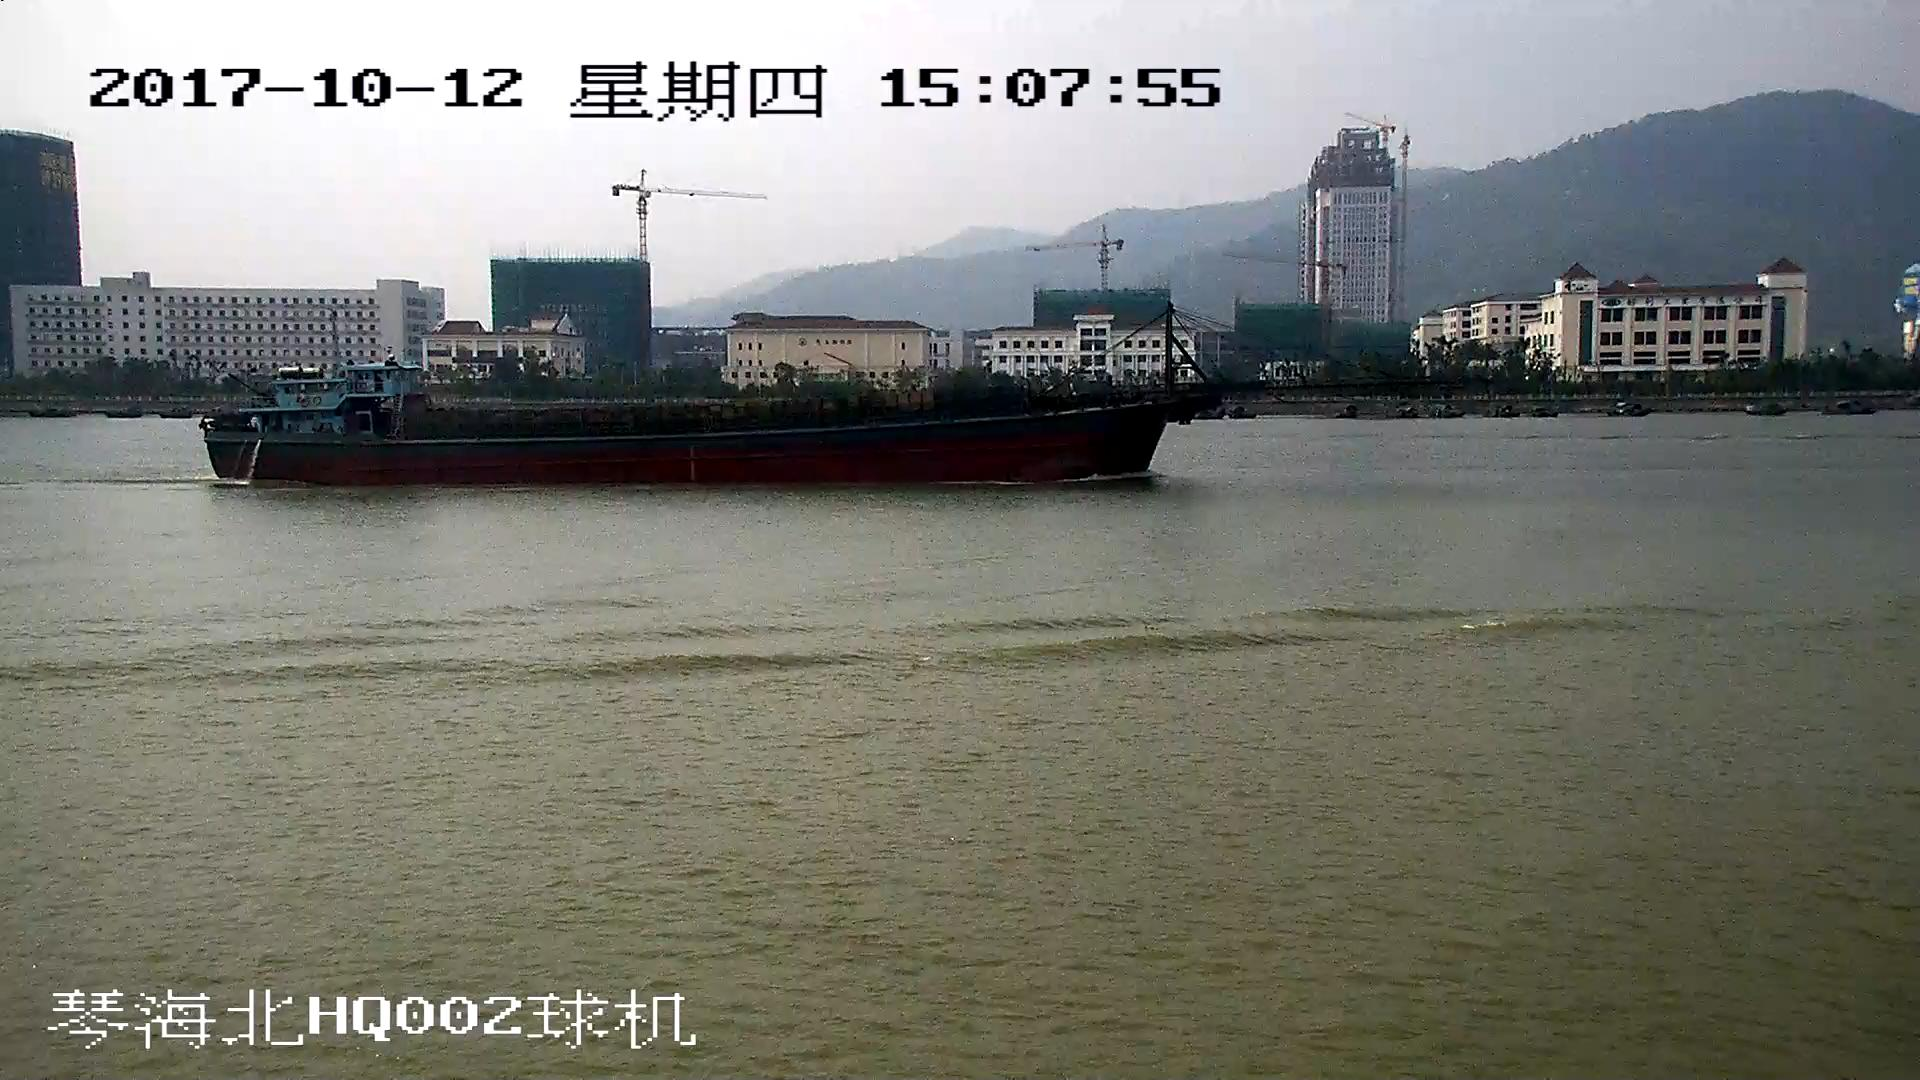bulk cargo carrier: (204, 307, 1303, 484)
